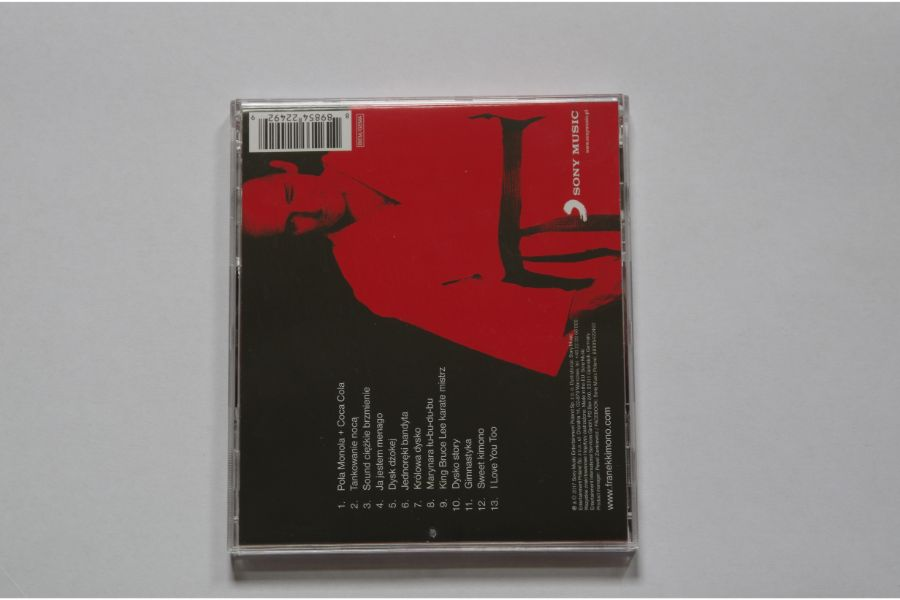album: (227, 93, 642, 560)
